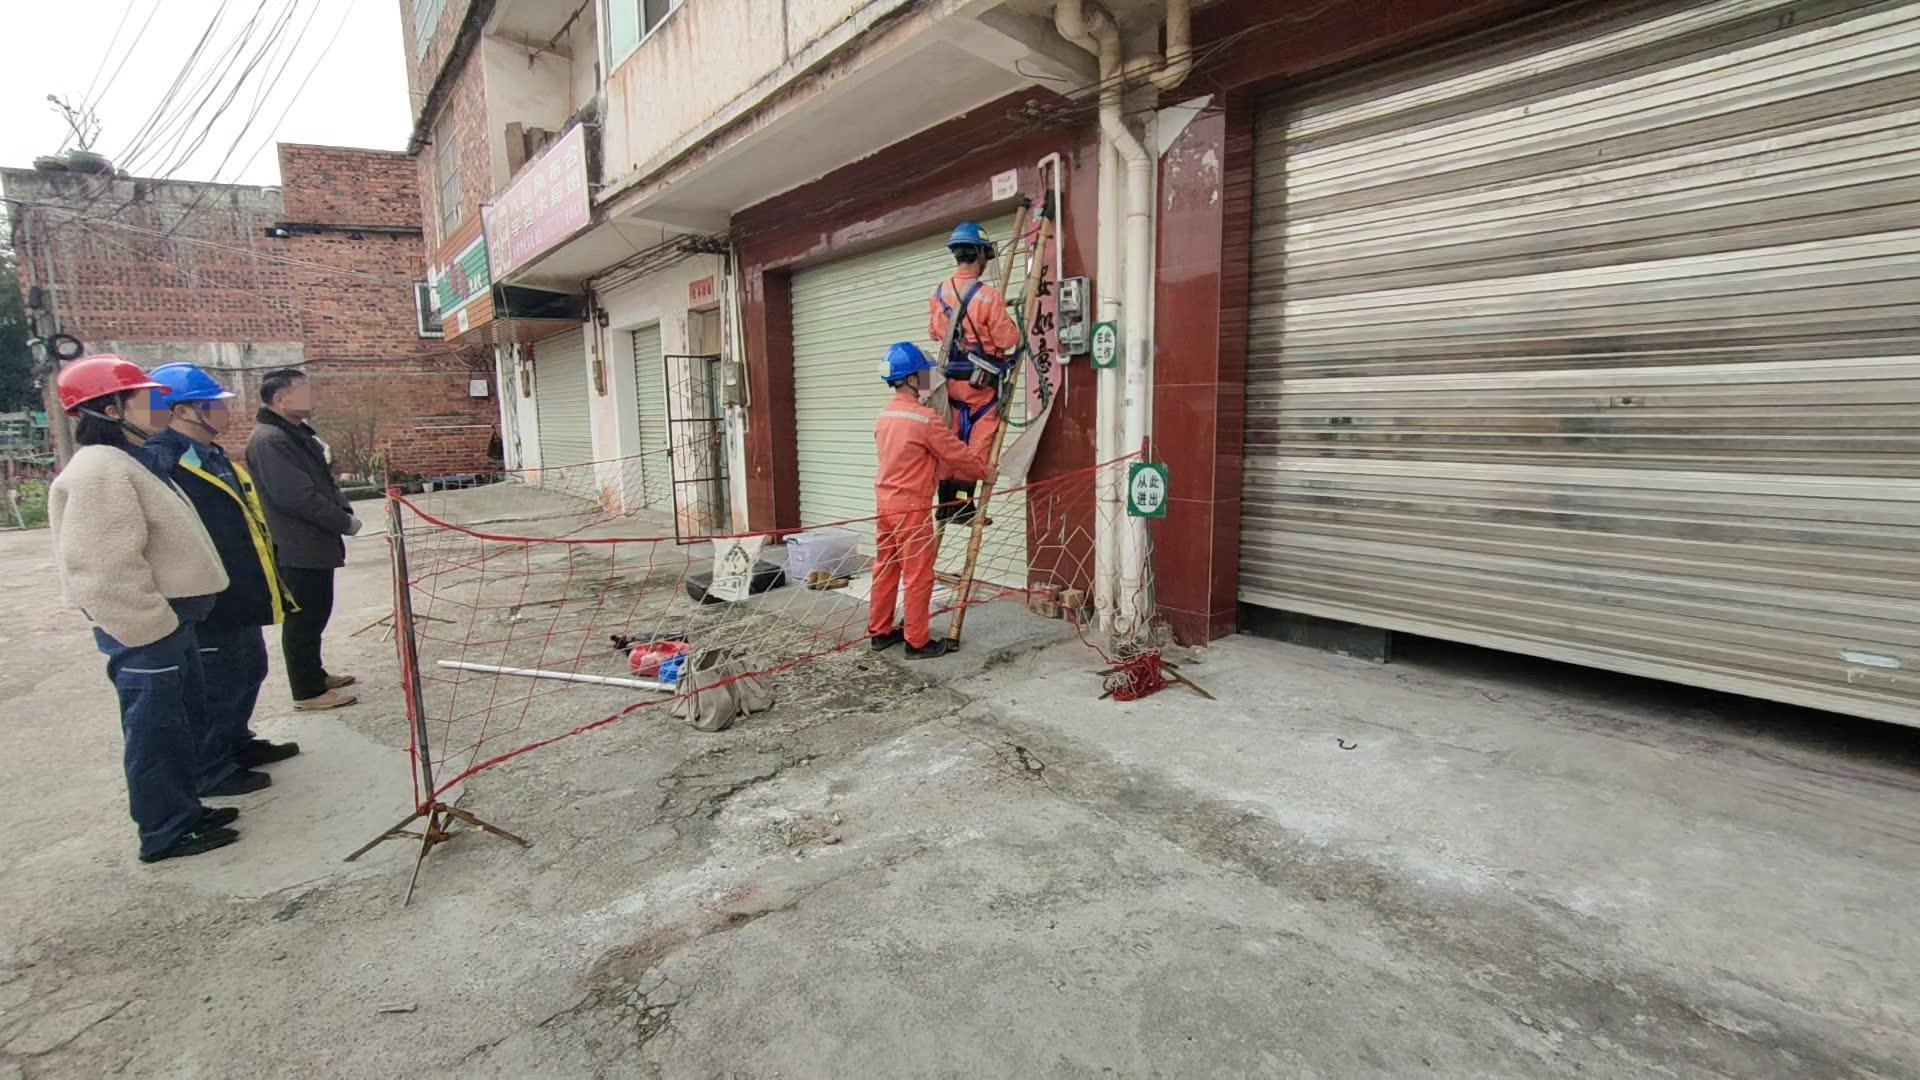halt: (59, 353, 156, 434), (152, 364, 235, 442), (884, 342, 934, 394), (948, 225, 996, 276)
unhalt: (265, 368, 318, 422)
